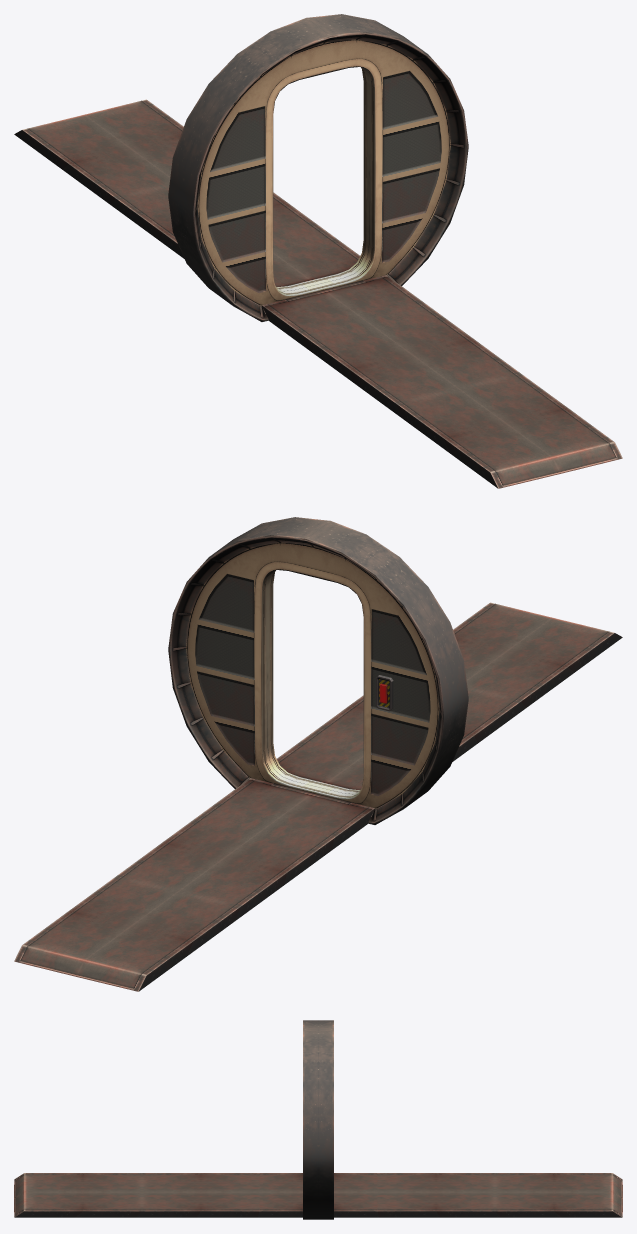
Rendered from doorway_base.dae.
3 views of the same model, one above another, from view 1: azimuth 30°, elevation 25°; view 2: azimuth 150°, elevation 25°; view 3: azimuth 270°, elevation 25° (orthographic). The views are drawn at different scales.
Visible parts, largest first — view 1: Doorway_Base; view 2: Doorway_Base; view 3: Doorway_Base.
Part boxes in pixels (box(x1,y1,x2,y2)): Doorway_Base: box(14, 14, 622, 488); Doorway_Base: box(14, 517, 622, 991); Doorway_Base: box(14, 1020, 622, 1219).
Size of the model in its own units: 2794 by 8500 by 2608.
